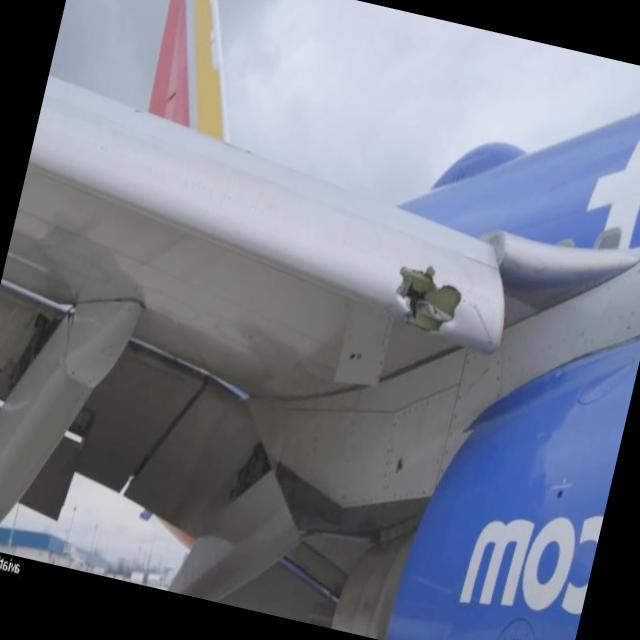crack: (382, 254, 470, 344)
